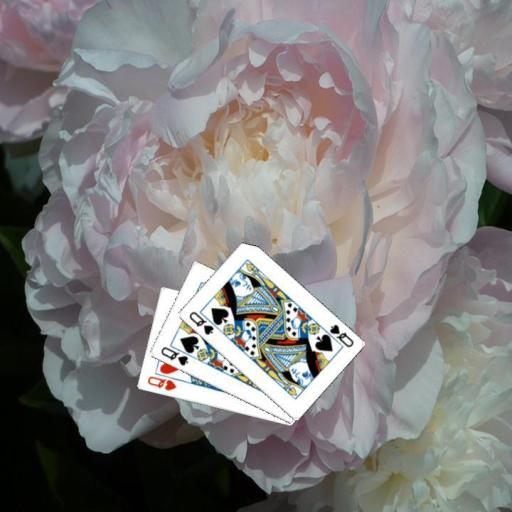QH: (144, 374, 178, 393)
QS: (186, 308, 215, 336), (326, 322, 355, 349), (157, 343, 189, 367)
